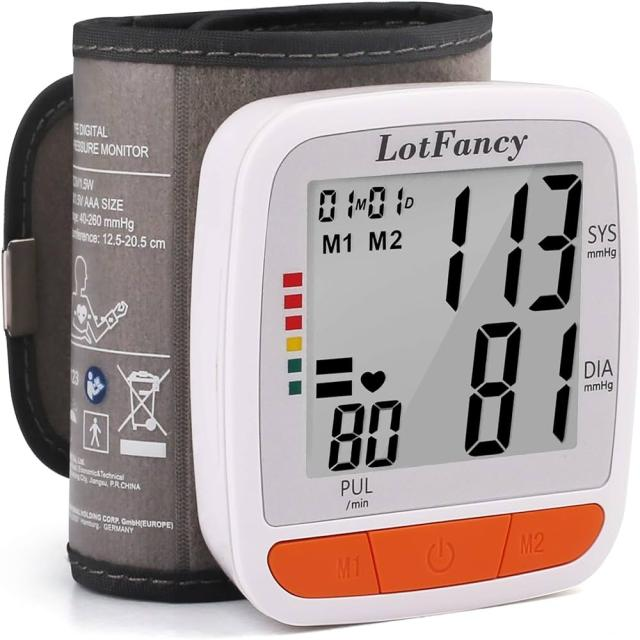dia: (446, 303, 582, 469)
pul: (316, 390, 412, 478)
ssd: (302, 159, 581, 483)
sys: (424, 166, 591, 316)
